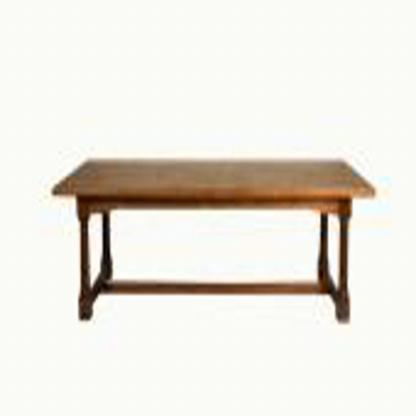Table: (43, 146, 385, 346)
